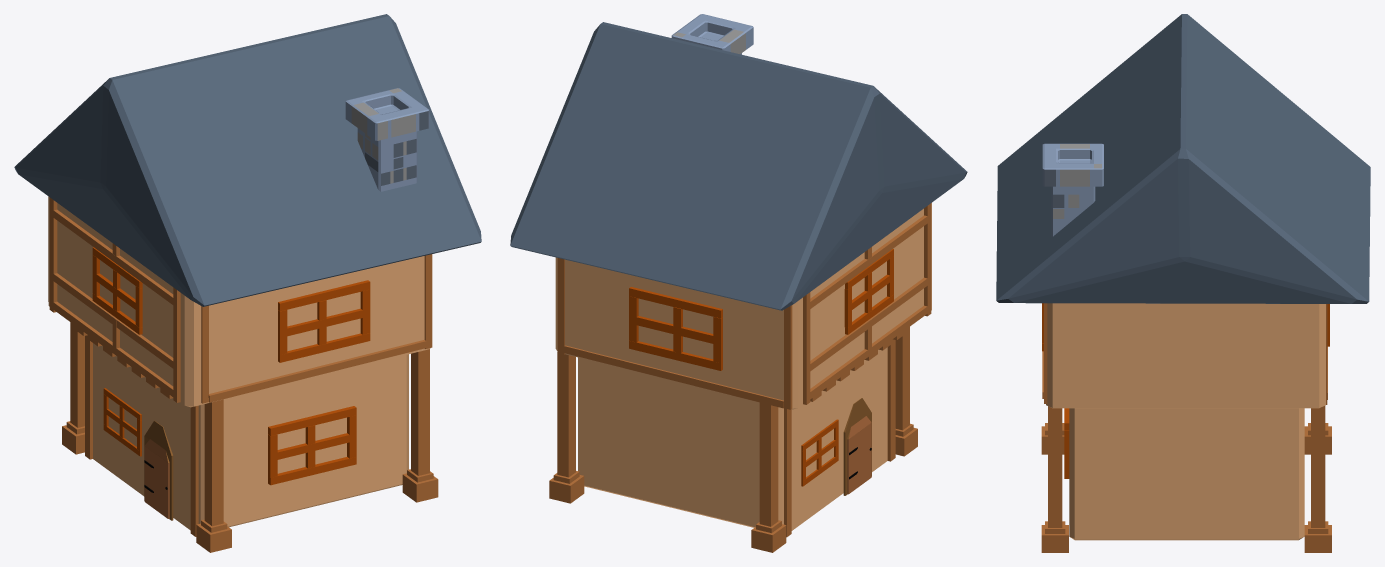
The model's file is MedievalHouse1.fbx.
The picture shows the model from 3 angles, left to right: view 1: azimuth 30°, elevation 25°; view 2: azimuth 150°, elevation 25°; view 3: azimuth 270°, elevation 25°; orthographic projection. The views are drawn at different scales.
Visible parts, largest first — view 1: Cube; view 2: Cube; view 3: Cube.
Part boxes in pixels (<box>): Cube: <box>14,14,481,552</box>; Cube: <box>510,14,967,552</box>; Cube: <box>996,14,1370,552</box>.
Bounding box in the file's own units: 2396 × 3293 × 2674.
